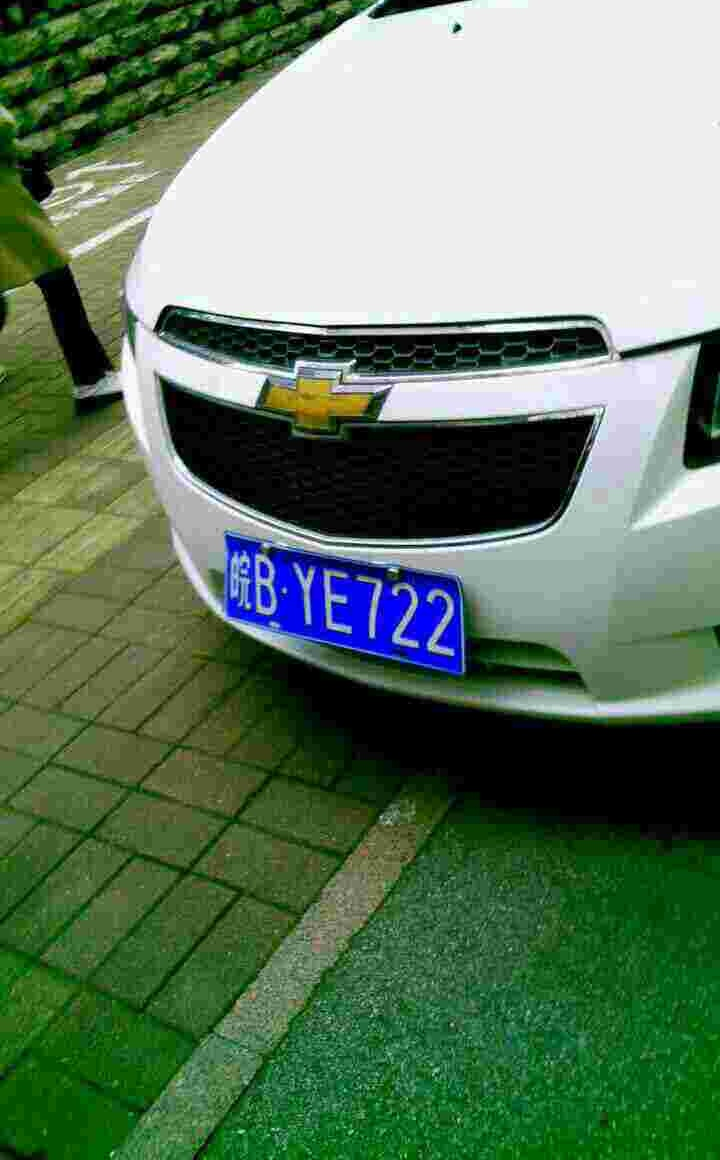license_plate: (214, 523, 475, 686)
